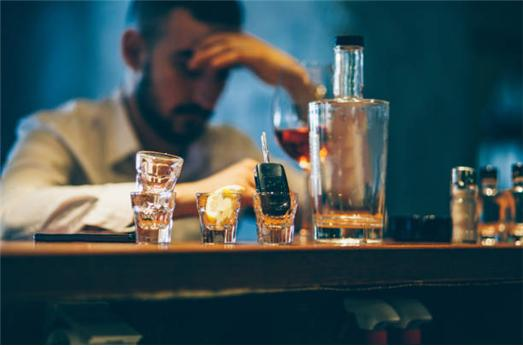alcohol: (309, 33, 384, 242), (274, 69, 334, 239), (469, 165, 506, 243), (252, 189, 300, 244), (130, 187, 173, 248), (197, 191, 241, 244), (132, 149, 182, 193), (501, 160, 523, 244), (447, 194, 474, 242), (451, 168, 472, 192)
